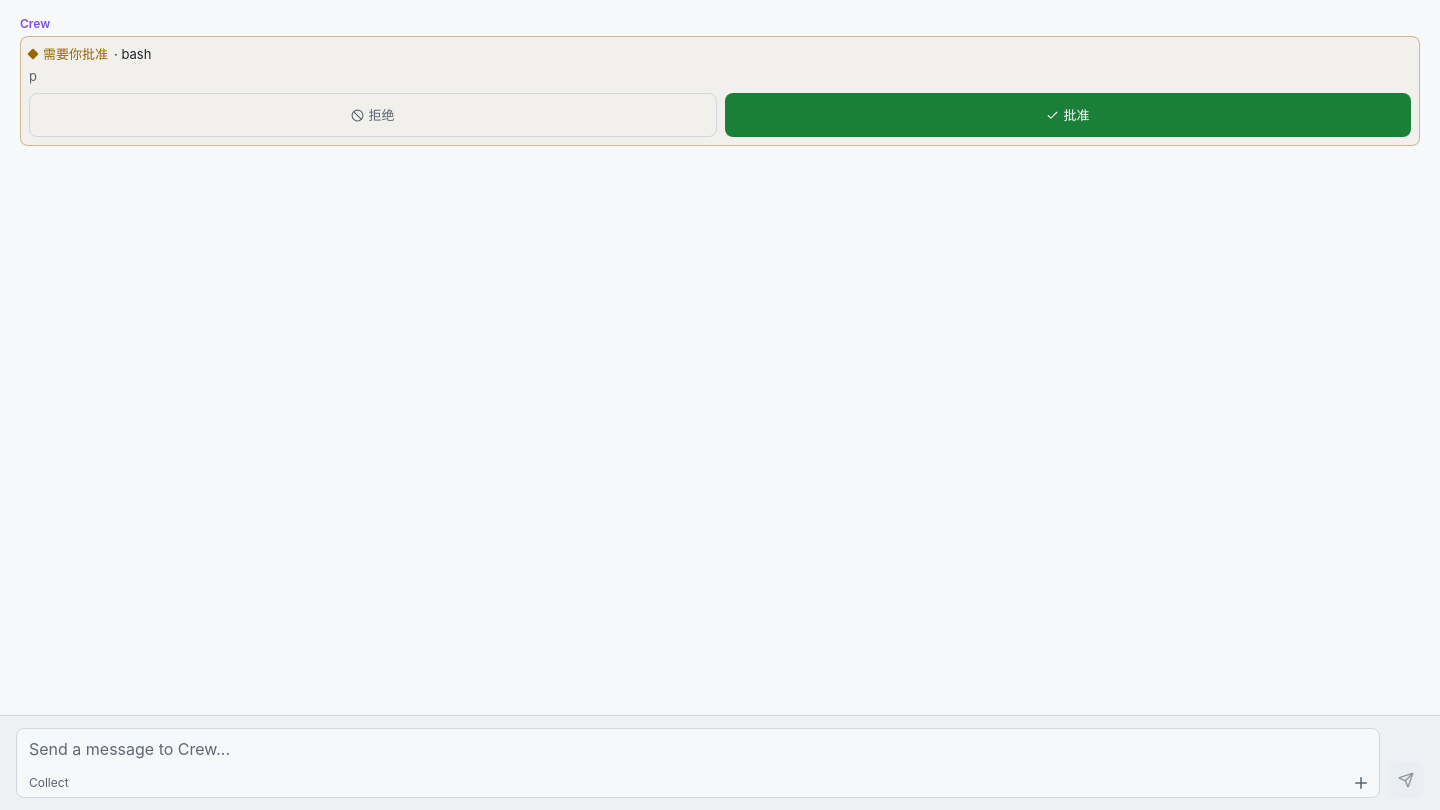
T14 Crew 新事件变体在前端有 case（防静默丢弃） › 拒绝路径同样上行 reject
Click the button with test id "approval-reject" at (373, 115), box [29,93,717,137]
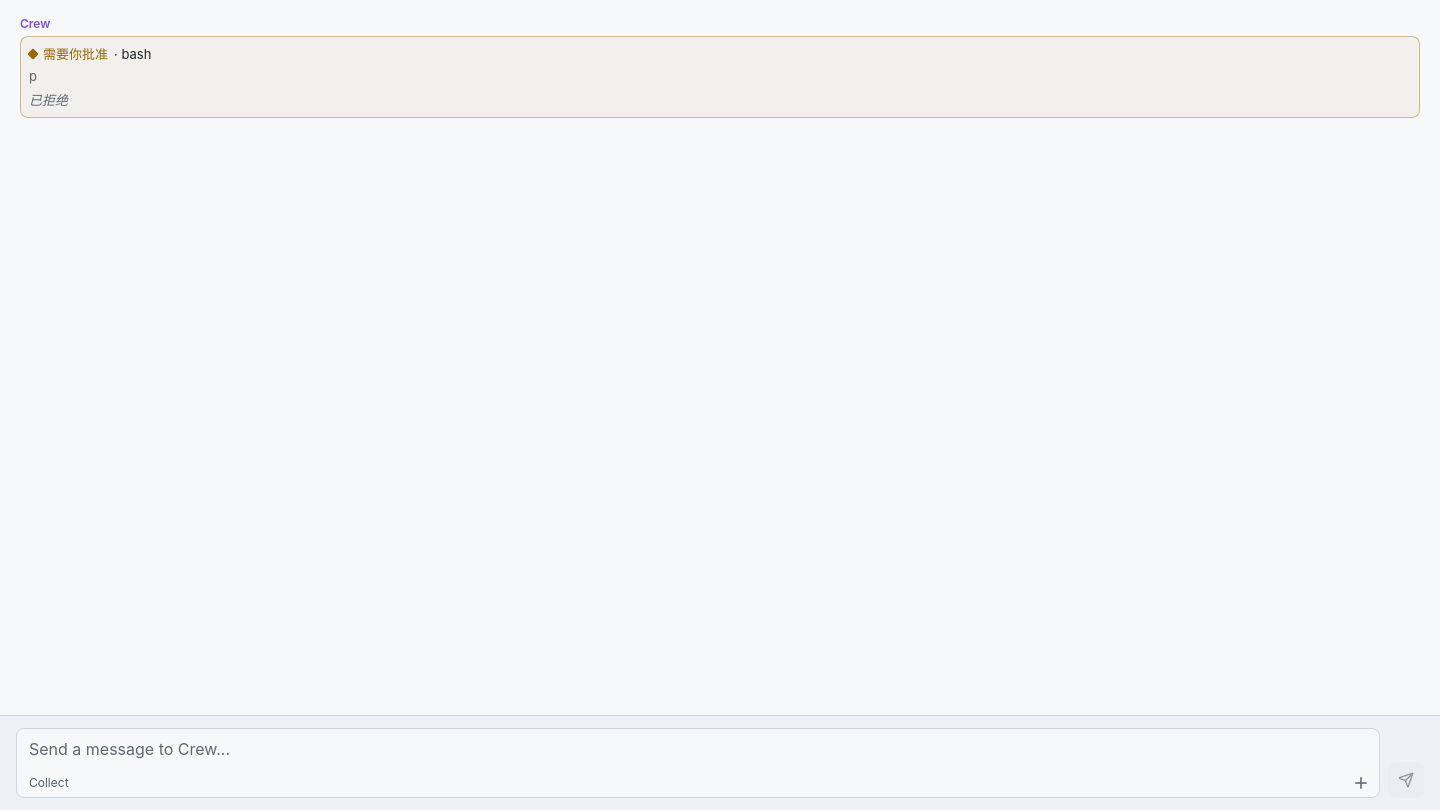
Expected: the text "已拒绝" is shown, [29,92,68,108]
